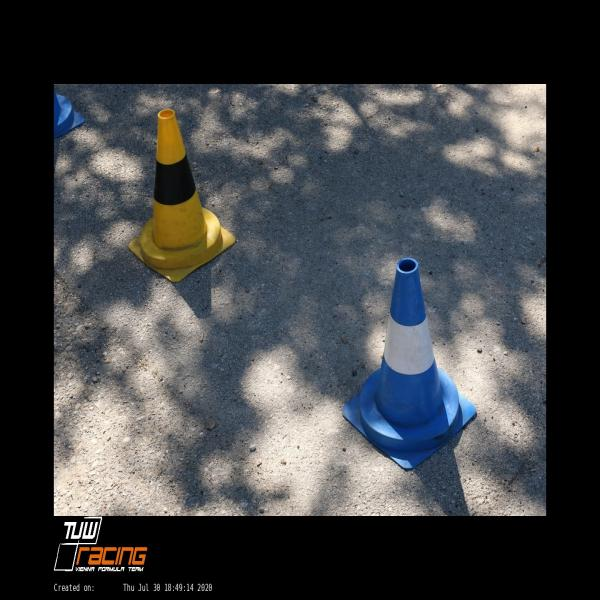blue_cone: (342, 258, 476, 470), (54, 89, 85, 139)
yellow_cone: (128, 109, 236, 282)
